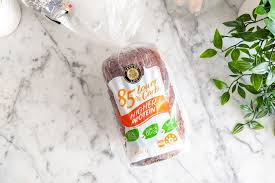bread: (91, 21, 194, 171)
